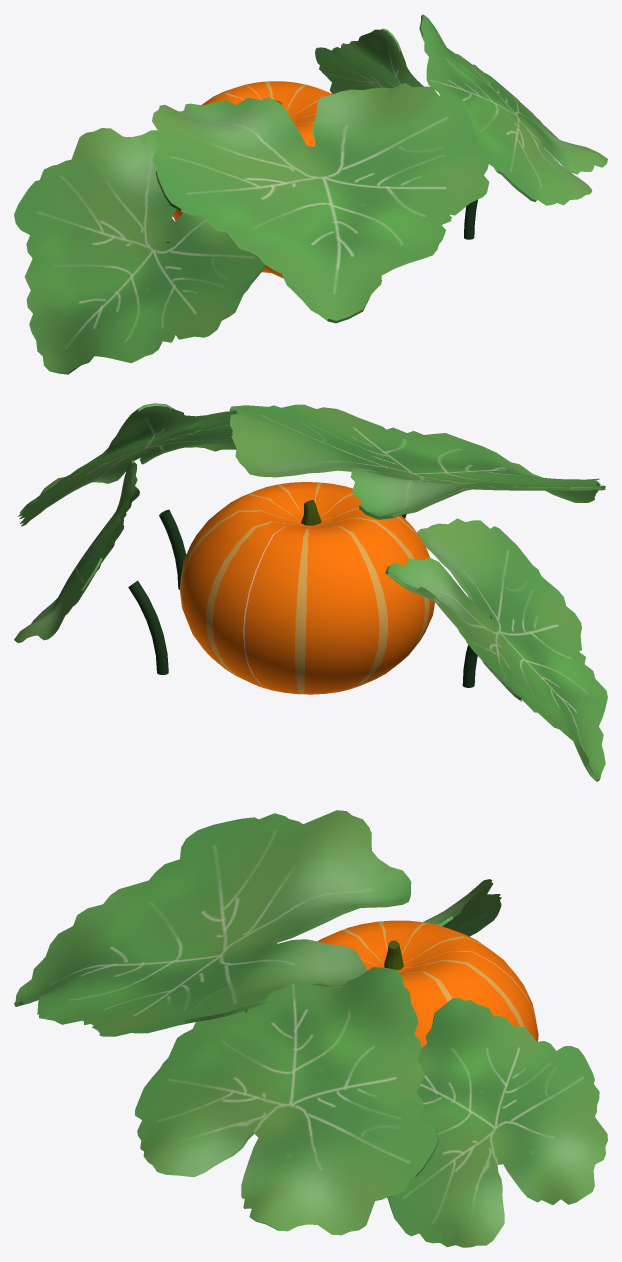
The model's file is 新成熟(new).FBX.
3 renders of one model, top to bottom at view 1: azimuth 30°, elevation 25°; view 2: azimuth 150°, elevation 25°; view 3: azimuth 270°, elevation 25°, orthographic. The views are drawn at different scales.
Visible parts, largest first — view 1: Box003, Box002, Box001, Box004, Sphere001; view 2: Sphere001, Box002, Box003, Box001, Box004, Cylinder001, Cylinder004; view 3: Box001, Box003, Box004, Sphere001, Box002.
Part boxes in pixels (x1,y1,x2,y2): Box003: (152,83,489,323); Box002: (14,128,265,374); Box001: (419,14,607,205); Box004: (315,28,423,93); Sphere001: (173,81,332,278); Sphere001: (180,482,434,694); Box002: (385,518,607,781); Box003: (229,404,605,519); Box001: (18,403,237,526); Box004: (14,460,139,642); Cylinder001: (128,580,168,674); Cylinder004: (159,509,186,589); Box001: (134,967,438,1235); Box003: (14,810,411,1036); Box004: (387,997,607,1247); Sphere001: (261,920,538,1047); Box002: (245,879,501,1012).
Size of the model in its own units: 80.52 by 36.51 by 62.77.
4 materials, 2 textured.
